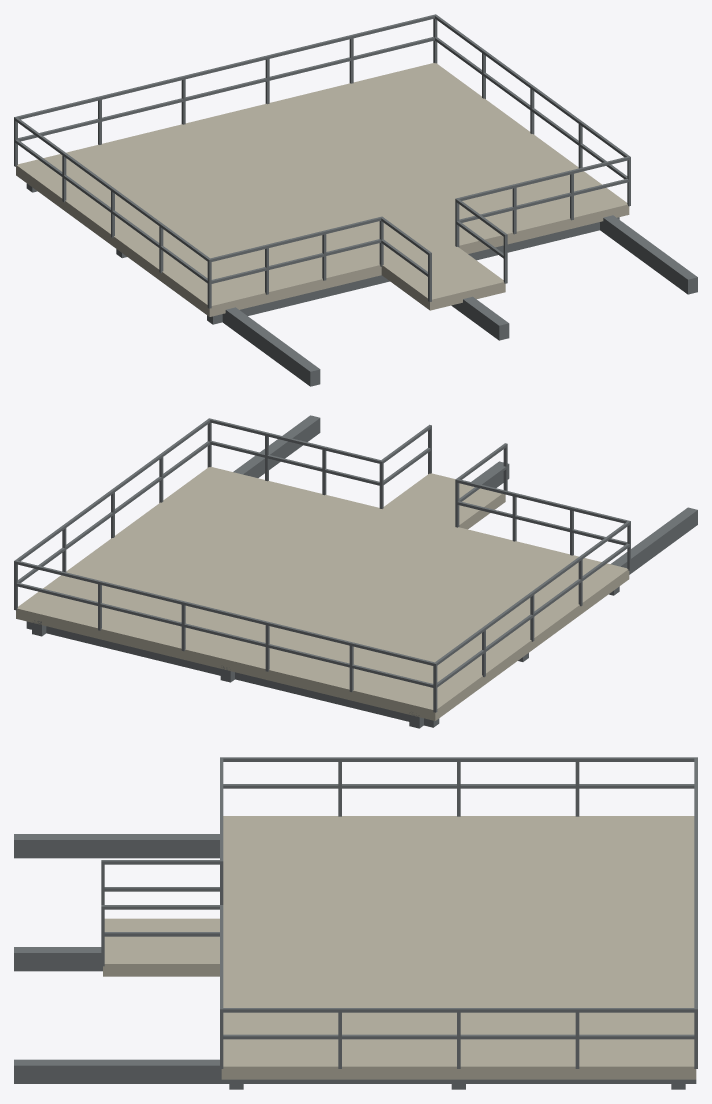
File: CENTRAL_ADJUNCT_RECEIVING_FRAME.glb
3 renders of one model, top to bottom at view 1: azimuth 30°, elevation 25°; view 2: azimuth 150°, elevation 25°; view 3: azimuth 270°, elevation 25°, orthographic. The views are drawn at different scales.
Parts seen in each view (by area): view 1: Exact_source_adjunct_receiver, Missing_connection_to_original_D17, Underfloor_crossmember_2, Underfloor_longitudinal_0, Underfloor_longitudinal_2, Edge_rail_0_1, Edge_rail_0_0, Underfloor_longitudinal_1, Edge_rail_1_1, Edge_rail_2_1, Edge_rail_1_0, Edge_rail_2_0 (+4 smaller); view 2: Exact_source_adjunct_receiver, Missing_connection_to_original_D17, Underfloor_crossmember_0, Underfloor_longitudinal_0, Edge_rail_0_1, Edge_rail_0_0, Underfloor_longitudinal_2, Edge_rail_2_1, Edge_rail_1_1, Edge_rail_1_0, Edge_rail_2_0, Edge_rail_4_1 (+4 smaller); view 3: Exact_source_adjunct_receiver, Underfloor_longitudinal_2, Missing_connection_to_original_D17, Underfloor_longitudinal_0, Edge_rail_2_0, Edge_rail_2_1, Edge_rail_1_1, Edge_rail_1_0, Underfloor_longitudinal_1, Edge_rail_0_1, Edge_rail_5_1, Edge_rail_5_0 (+2 smaller).
Part boxes in pixels (x1,y1,x2,y2): Exact_source_adjunct_receiver: (16, 63, 629, 316); Missing_connection_to_original_D17: (381, 246, 505, 310); Underfloor_crossmember_2: (207, 217, 619, 324); Underfloor_longitudinal_0: (222, 307, 320, 386); Underfloor_longitudinal_2: (600, 215, 697, 294); Edge_rail_0_1: (14, 14, 436, 119); Edge_rail_0_0: (14, 37, 434, 142); Underfloor_longitudinal_1: (451, 296, 509, 340); Edge_rail_1_1: (14, 117, 211, 262); Edge_rail_2_1: (435, 14, 630, 159); Edge_rail_1_0: (14, 139, 211, 284); Edge_rail_2_0: (435, 37, 630, 181); Exact_source_adjunct_receiver: (16, 467, 629, 720); Missing_connection_to_original_D17: (383, 473, 505, 529); Underfloor_crossmember_0: (26, 621, 439, 727); Underfloor_longitudinal_0: (409, 507, 697, 728); Edge_rail_0_1: (14, 560, 437, 666); Edge_rail_0_0: (14, 582, 437, 688); Underfloor_longitudinal_2: (32, 415, 320, 636); Edge_rail_2_1: (14, 418, 210, 563); Edge_rail_1_1: (433, 520, 630, 665); Edge_rail_1_0: (434, 543, 629, 687); Edge_rail_2_0: (16, 441, 210, 584); Edge_rail_4_1: (210, 418, 382, 464); Exact_source_adjunct_receiver: (221, 816, 696, 1079); Underfloor_longitudinal_2: (14, 1059, 696, 1083); Missing_connection_to_original_D17: (103, 918, 219, 976); Underfloor_longitudinal_0: (14, 834, 219, 858); Edge_rail_2_0: (220, 1034, 694, 1039); Edge_rail_2_1: (220, 1008, 697, 1012); Edge_rail_1_1: (220, 757, 694, 761); Edge_rail_1_0: (223, 784, 694, 788); Underfloor_longitudinal_1: (14, 947, 102, 971); Edge_rail_0_1: (694, 757, 697, 1012); Edge_rail_5_1: (101, 860, 222, 864); Edge_rail_5_0: (101, 887, 221, 891).
Bounding box in the file's own units: 10.06 × 1.58 × 11.53.
